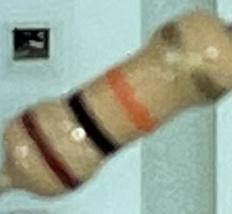Black: (61, 87, 124, 165)
Brown: (16, 106, 88, 194)
Orange: (102, 63, 162, 139)
Side-Gold: (156, 19, 229, 104)
